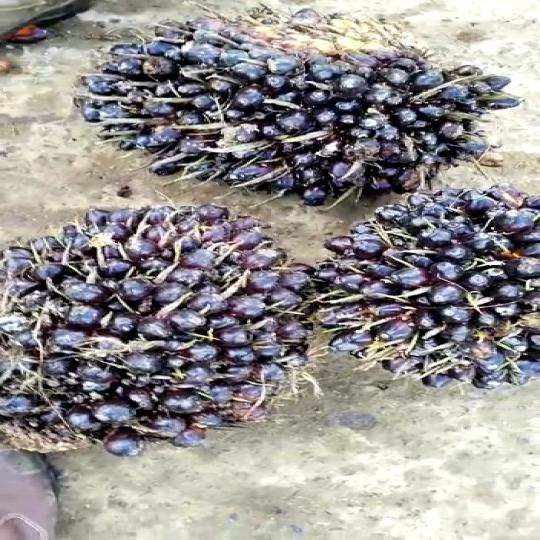mentah: (0, 191, 296, 469), (70, 2, 488, 197), (293, 175, 540, 404)
